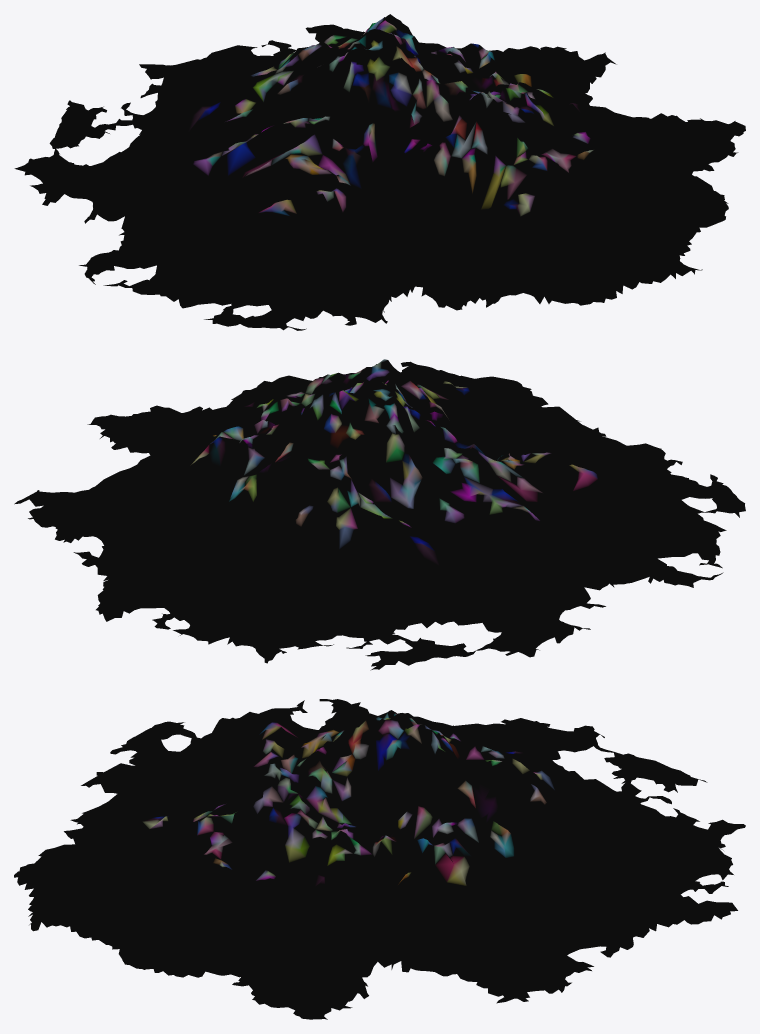
The model's file is Mountain_B.gltf.
3 views of the same model, one above another, from view 1: azimuth 30°, elevation 25°; view 2: azimuth 150°, elevation 25°; view 3: azimuth 270°, elevation 25° (orthographic). The views are drawn at different scales.
Visible parts, largest first — view 1: Mountain_B; view 2: Mountain_B; view 3: Mountain_B.
Part boxes in pixels (<box>): Mountain_B: <box>14,14,745,330</box>; Mountain_B: <box>14,359,745,670</box>; Mountain_B: <box>14,699,745,1019</box>.
Bounding box in the file's own units: 681 × 146 × 655.
